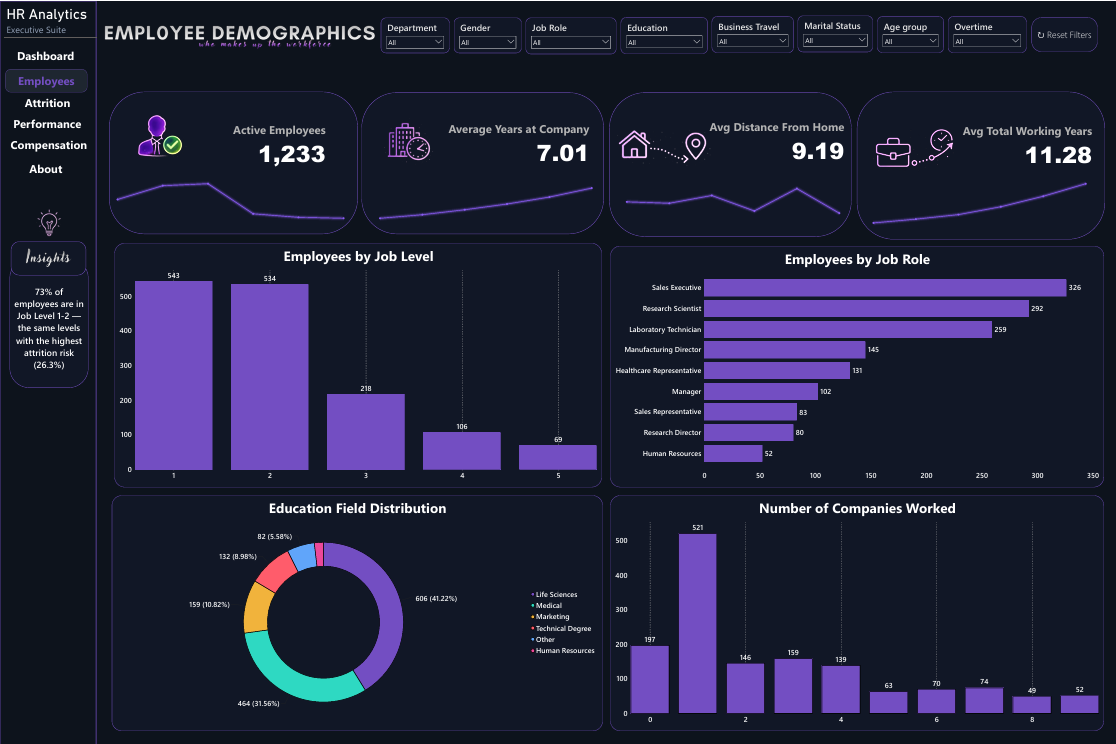

This screenshot's page, from the dashboard's own definition file:
{"tool":"powerbi","page":{"name":"Employees","canvas":[3300,2200],"ordinal":1},"visuals":[{"type":"shape","box":[0,0,284,2200],"z":0},{"type":"cardVisual","fields":{"Data":["Measures (2).Active Employees"]},"box":[316.3,224.3,675.7,405.4],"z":0,"group":"g2"},{"type":"cardVisual","fields":{"Data":["Measures (2).Average Years at Company"]},"box":[1056.8,224.3,713.5,400],"z":1000,"group":"g2"},{"type":"shape","box":[321.6,267.6,735.1,421.6],"z":1000},{"type":"cardVisual","fields":{"Data":["HR.Avg Distance From Home"]},"box":[2008.2,194.6,516.2,445.9],"z":2000,"group":"g2"},{"type":"actionButton","box":[15,201,243,69],"z":2000},{"type":"cardVisual","fields":{"Data":["HR.Avg Total Working Years"]},"box":[2543.3,224.3,713.5,413.5],"z":3000,"group":"g2"},{"type":"actionButton","box":[19,268,242,56],"z":3000},{"type":"image","box":[254.1,216.2,432.4,383.8],"z":4000,"group":"g2"},{"type":"actionButton","box":[18.2,330,242.7,59.1],"z":4000},{"type":"image","box":[994.6,178.4,464.9,489.2],"z":5000,"group":"g2"},{"type":"actionButton","box":[17,389,254,69],"z":5000},{"type":"image","box":[1667.6,205.4,567.6,302.7],"z":6000,"group":"g2"},{"type":"actionButton","box":[14,462,242,62],"z":6000},{"type":"image","box":[2440.6,181.1,497.3,373],"z":7000,"group":"g2"},{"type":"clusteredColumnChart","title":"Employees by Job Level","fields":{"Category":["HR.JobLevel"],"Y":["Measures (2).Total Employees"]},"box":[337.8,716.2,1440.5,721.6],"z":7000},{"type":"clusteredBarChart","title":"Employees by Job Role","fields":{"Category":["HR.JobRole"],"Y":["Measures (2).Total Employees"]},"box":[1802.7,724.3,1459.5,713.5],"z":8000},{"type":"donutChart","title":"Education Field Distribution","fields":{"Y":["Measures (2).Total Employees"],"Category":["HR.EducationField"]},"box":[329.7,1462.2,1451.4,697.3],"z":9000},{"type":"clusteredColumnChart","title":"Number of Companies Worked","fields":{"Y":["Measures (2).Total Employees"],"Category":["HR.NumCompaniesWorked"]},"box":[1802.7,1462.2,1459.5,697.3],"z":10000},{"type":"shape","box":[27.8,761.1,233.3,383.3],"z":11000},{"type":"textbox","box":[35.1,835.1,218.9,275.7],"z":12000},{"type":"group","id":"g1","title":"Group 1","box":[32.4,710.8,221.6,100],"z":13000},{"type":"slicer","fields":{"Values":["HR.BusinessTravel"]},"box":[2103.9,44.5,241.3,107.9],"z":14000,"group":"g3"},{"type":"image","box":[2.8,530.6,283.3,266.7],"z":14000},{"type":"slicer","fields":{"Values":["HR.Department"]},"box":[1125.4,49.2,203.2,104.8],"z":15000,"group":"g3"},{"type":"shape","box":[2532.4,267.6,732.4,437.8],"z":15000},{"type":"slicer","fields":{"Values":["HR.Gender"]},"box":[1341,49.2,200,104.8],"z":16000,"group":"g3"},{"type":"shape","box":[1800,270.3,716.2,427],"z":16000},{"type":"slicer","fields":{"Values":["HR.JobRole"]},"box":[1553.5,49.2,268.3,107.9],"z":17000,"group":"g3"},{"type":"shape","box":[1067.6,270.3,716.2,418.9],"z":17000},{"type":"slicer","fields":{"Values":["HR.EducationField"]},"box":[1834.2,47.7,257.1,107.9],"z":18000,"group":"g3"},{"type":"deneb7E15AEF80B9E4D4F8E12924291ECE89A","fields":{"dataset":["HR.TenureBucket","Measures (2).Active Employees"]},"box":[270.3,516.2,829.7,162.2],"z":18000},{"type":"slicer","fields":{"Values":["HR.MaritalStatus"]},"box":[2357.6,42.9,222.2,107.9],"z":19000,"group":"g3"},{"type":"deneb7E15AEF80B9E4D4F8E12924291ECE89A","fields":{"dataset":["HR.TenureBucket","Measures (2).Average Years at Company"]},"box":[1050,529.4,779.4,144.1],"z":19000},{"type":"slicer","fields":{"Values":["HR.Age Group"]},"box":[2592.3,44.5,196.8,107.9],"z":20000,"group":"g3"},{"type":"deneb7E15AEF80B9E4D4F8E12924291ECE89A","fields":{"dataset":["HR.TenureBucket","HR.Avg Distance From Home"]},"box":[1779.4,523.5,782.4,373.5],"z":20000},{"type":"slicer","fields":{"Values":["HR.OverTime"]},"box":[2801.6,44.5,231.7,107.9],"z":21000,"group":"g3"},{"type":"deneb7E15AEF80B9E4D4F8E12924291ECE89A","fields":{"dataset":["HR.TenureBucket","HR.Avg Total Working Years"]},"box":[2508.1,516.2,781.1,200],"z":21000},{"type":"group","id":"g2","title":"Group 2","box":[254.1,178.4,3002.7,489.2],"z":22000},{"type":"actionButton","title":"↻ Reset Filters","box":[3047.5,47.5,195,102.5],"z":23000},{"type":"group","id":"g3","title":"Group 3","box":[1125.4,42.9,1907.9,114.3],"z":24000},{"type":"actionButton","box":[13,130,243,62],"z":25000},{"type":"textbox","title":"HR Analytics","box":[13.9,13.9,272.2,136.1],"z":26000},{"type":"image","box":[300,7.5,813.8,191.2],"z":27000},{"type":"image","box":[67.1,662.9,150,192.9],"z":28000},{"type":"shape","box":[32.4,710.8,221.6,100],"z":59000,"group":"g1"}]}

Visuals, with their boxes on the page's 3300x2200 design canvas (x1, y1, x2, y2). These are canvas units, not pixel positions in the 1116x744 screenshot, which may show the page scaled, cropped or inside an application window:
shape: (0, 0, 284, 2200)
cardVisual - Measures (2).Active Employees: (316, 224, 992, 630)
cardVisual - Measures (2).Average Years at Company: (1057, 224, 1770, 624)
shape: (322, 268, 1057, 689)
cardVisual - HR.Avg Distance From Home: (2008, 195, 2524, 640)
actionButton: (15, 201, 258, 270)
cardVisual - HR.Avg Total Working Years: (2543, 224, 3257, 638)
actionButton: (19, 268, 261, 324)
image: (254, 216, 686, 600)
actionButton: (18, 330, 261, 389)
image: (995, 178, 1460, 668)
actionButton: (17, 389, 271, 458)
image: (1668, 205, 2235, 508)
actionButton: (14, 462, 256, 524)
image: (2441, 181, 2938, 554)
"Employees by Job Level" clusteredColumnChart: (338, 716, 1778, 1438)
"Employees by Job Role" clusteredBarChart: (1803, 724, 3262, 1438)
"Education Field Distribution" donutChart: (330, 1462, 1781, 2160)
"Number of Companies Worked" clusteredColumnChart: (1803, 1462, 3262, 2160)
shape: (28, 761, 261, 1144)
textbox: (35, 835, 254, 1111)
"Group 1" group: (32, 711, 254, 811)
slicer - HR.BusinessTravel: (2104, 44, 2345, 152)
image: (3, 531, 286, 797)
slicer - HR.Department: (1125, 49, 1329, 154)
shape: (2532, 268, 3265, 705)
slicer - HR.Gender: (1341, 49, 1541, 154)
shape: (1800, 270, 2516, 697)
slicer - HR.JobRole: (1554, 49, 1822, 157)
shape: (1068, 270, 1784, 689)
slicer - HR.EducationField: (1834, 48, 2091, 156)
deneb7E15AEF80B9E4D4F8E12924291ECE89A - HR.TenureBucket x Measures (2).Active Employees: (270, 516, 1100, 678)
slicer - HR.MaritalStatus: (2358, 43, 2580, 151)
deneb7E15AEF80B9E4D4F8E12924291ECE89A - HR.TenureBucket x Measures (2).Average Years at Company: (1050, 529, 1829, 674)
slicer - HR.Age Group: (2592, 44, 2789, 152)
deneb7E15AEF80B9E4D4F8E12924291ECE89A - HR.TenureBucket x HR.Avg Distance From Home: (1779, 524, 2562, 897)
slicer - HR.OverTime: (2802, 44, 3033, 152)
deneb7E15AEF80B9E4D4F8E12924291ECE89A - HR.TenureBucket x HR.Avg Total Working Years: (2508, 516, 3289, 716)
"Group 2" group: (254, 178, 3257, 668)
"↻ Reset Filters" actionButton: (3048, 48, 3242, 150)
"Group 3" group: (1125, 43, 3033, 157)
actionButton: (13, 130, 256, 192)
"HR Analytics" textbox: (14, 14, 286, 150)
image: (300, 8, 1114, 199)
image: (67, 663, 217, 856)
shape: (32, 711, 254, 811)
